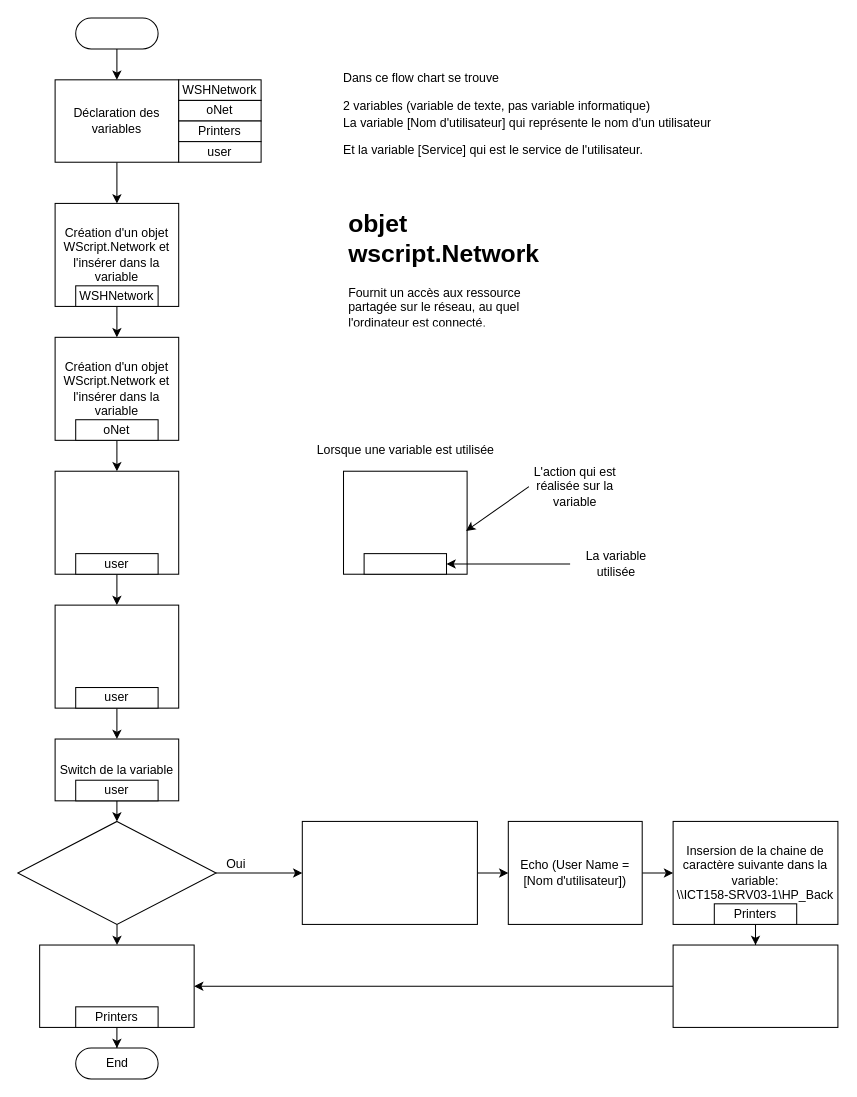
Image size: 857x1097. Some labels were removed from this diagram. Here are the shapes that lost their labels. From the top down, the box of each, then its label:
(75, 17, 158, 49): Start
(54, 470, 179, 574): Lecture de la variable système UserName et l'insérer dans la variable
(342, 470, 467, 574): Action
(363, 553, 447, 574): Variable
(54, 604, 179, 708): Mise en majuscule du contenu de la variable
(17, 820, 216, 924): Si le nom d'utilisateur est égale à [Nom d'utilisateur]
(301, 820, 477, 924): Mapping de la lettre E: avec \\ICT158-SRV03-1\Services\[Service]
(39, 944, 194, 1027): Attribution de la valeur "nothing" à la variable
(672, 944, 838, 1027): Connexion à l'imprimante + la mettre en imprimante par défaut
